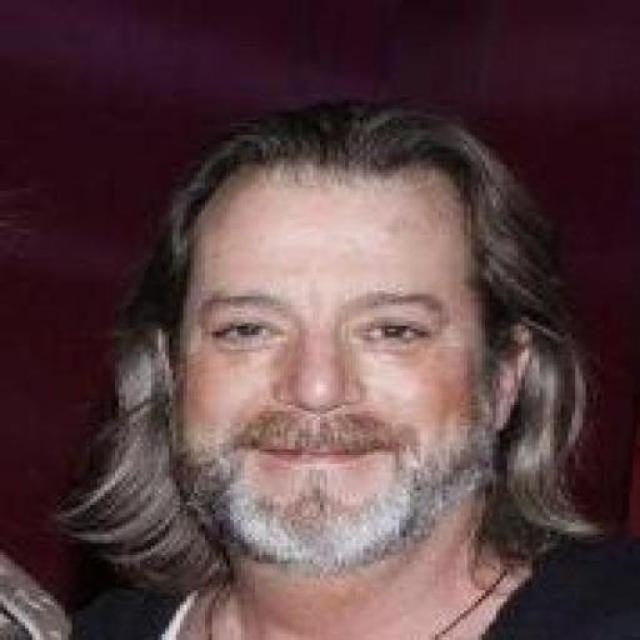bareface: (182, 108, 492, 592)
